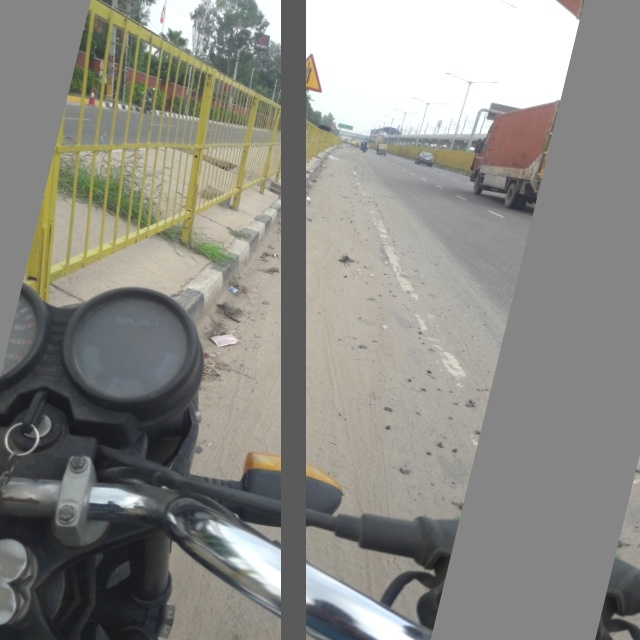Merge_Traffic_Ahead: (281, 42, 339, 101)
